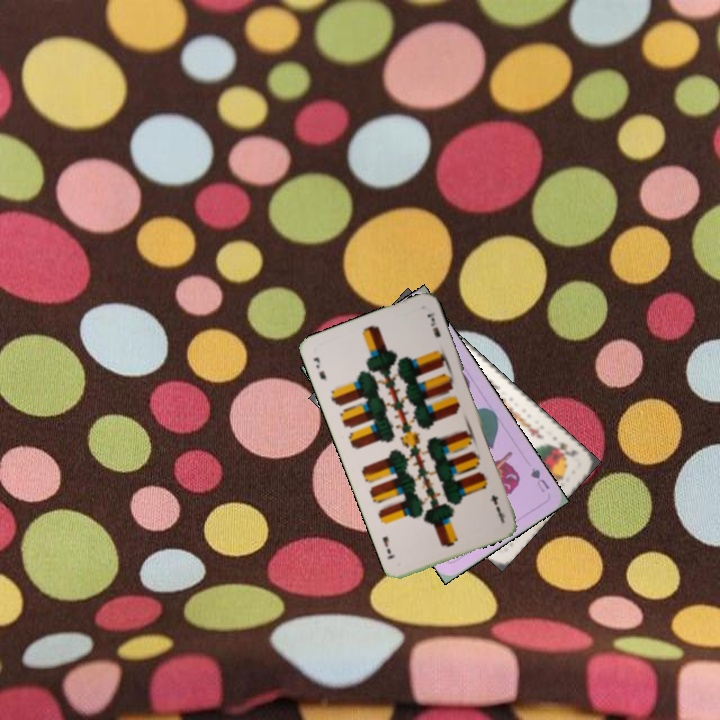E7: (488, 491, 508, 523), (309, 353, 329, 384)
GU: (526, 463, 552, 495)
SK: (547, 438, 580, 461)
